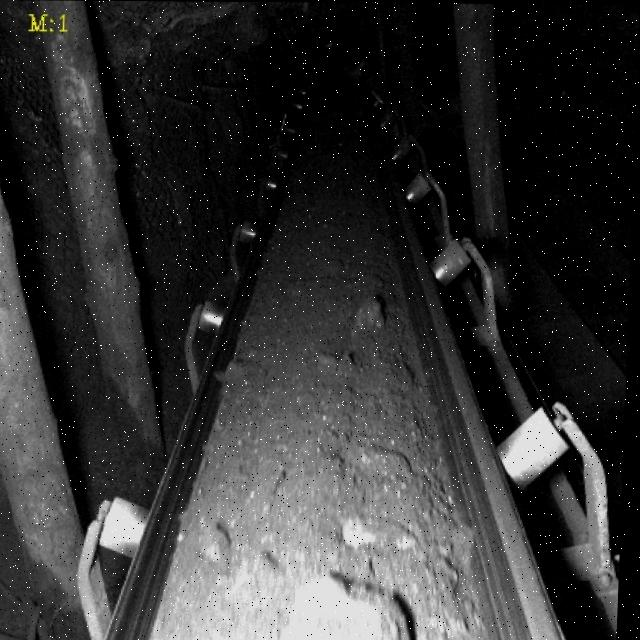large_sized_coal: (298, 583, 416, 640), (341, 513, 423, 549), (351, 275, 392, 330)
